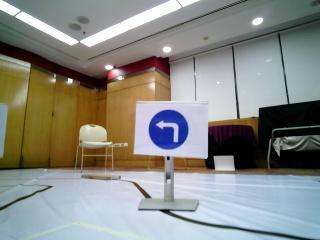left: (142, 104, 207, 158)
